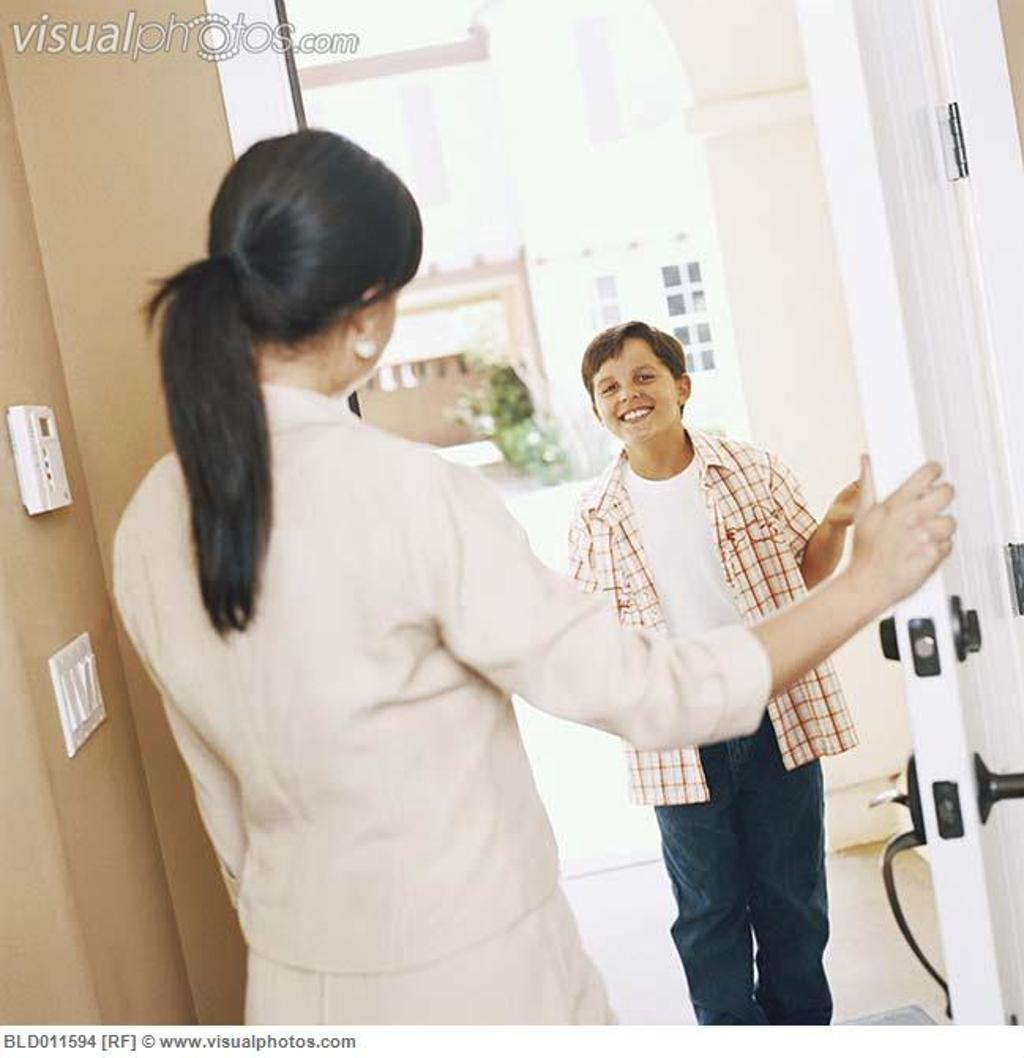face: (595, 341, 684, 440)
